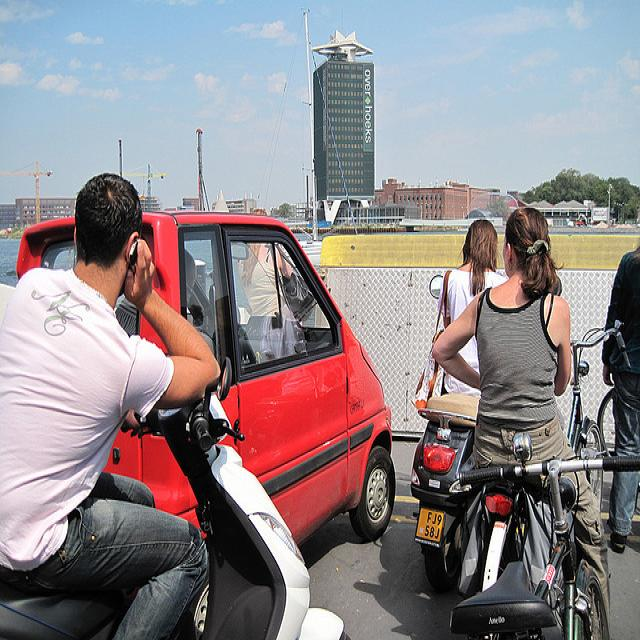motor: (142, 356, 345, 632), (409, 393, 481, 594)
